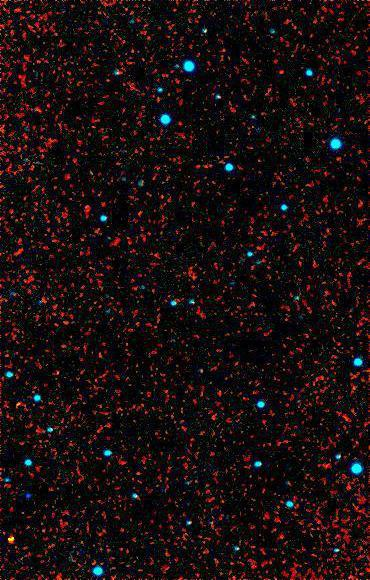star: (0, 524, 23, 554)
